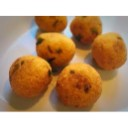bonda: (58, 66, 103, 110), (8, 56, 53, 99), (35, 33, 75, 65), (93, 34, 128, 70), (70, 14, 104, 41), (33, 15, 69, 31)
